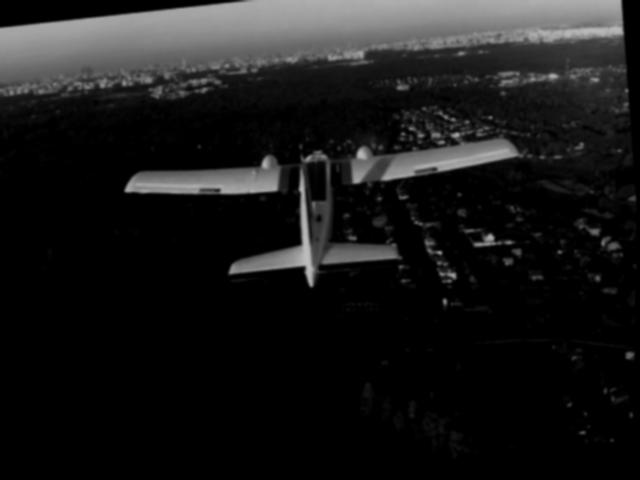hedef: (117, 114, 531, 317)
